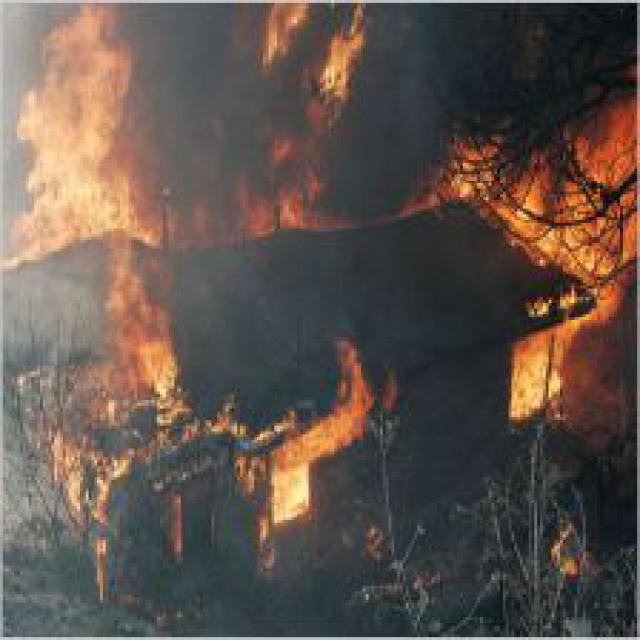fire: (486, 89, 637, 420), (3, 3, 168, 257), (254, 352, 377, 528), (94, 260, 186, 423), (260, 3, 371, 131)
